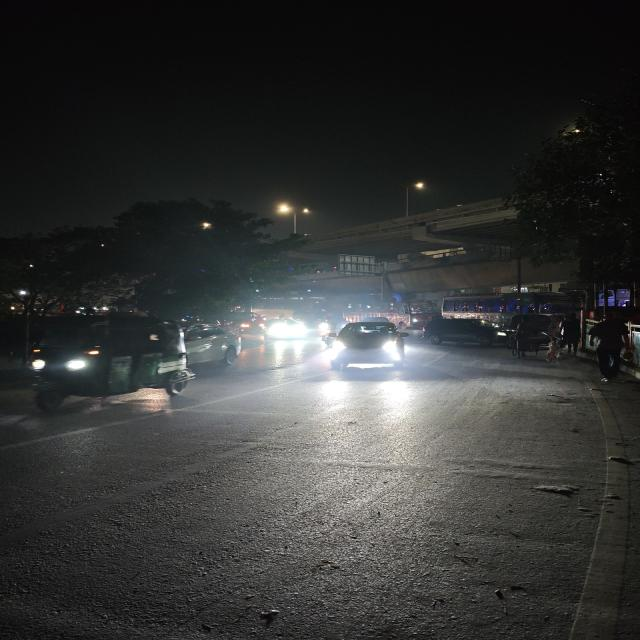car: (324, 318, 412, 379), (182, 319, 246, 371), (417, 315, 506, 349)
cng: (19, 311, 198, 415)
pedestrian: (587, 310, 639, 388)
rickshaw: (505, 312, 563, 364)
